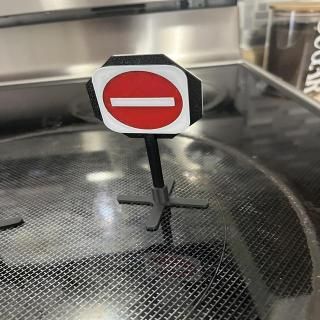sign_noentry: (89, 61, 204, 139)
